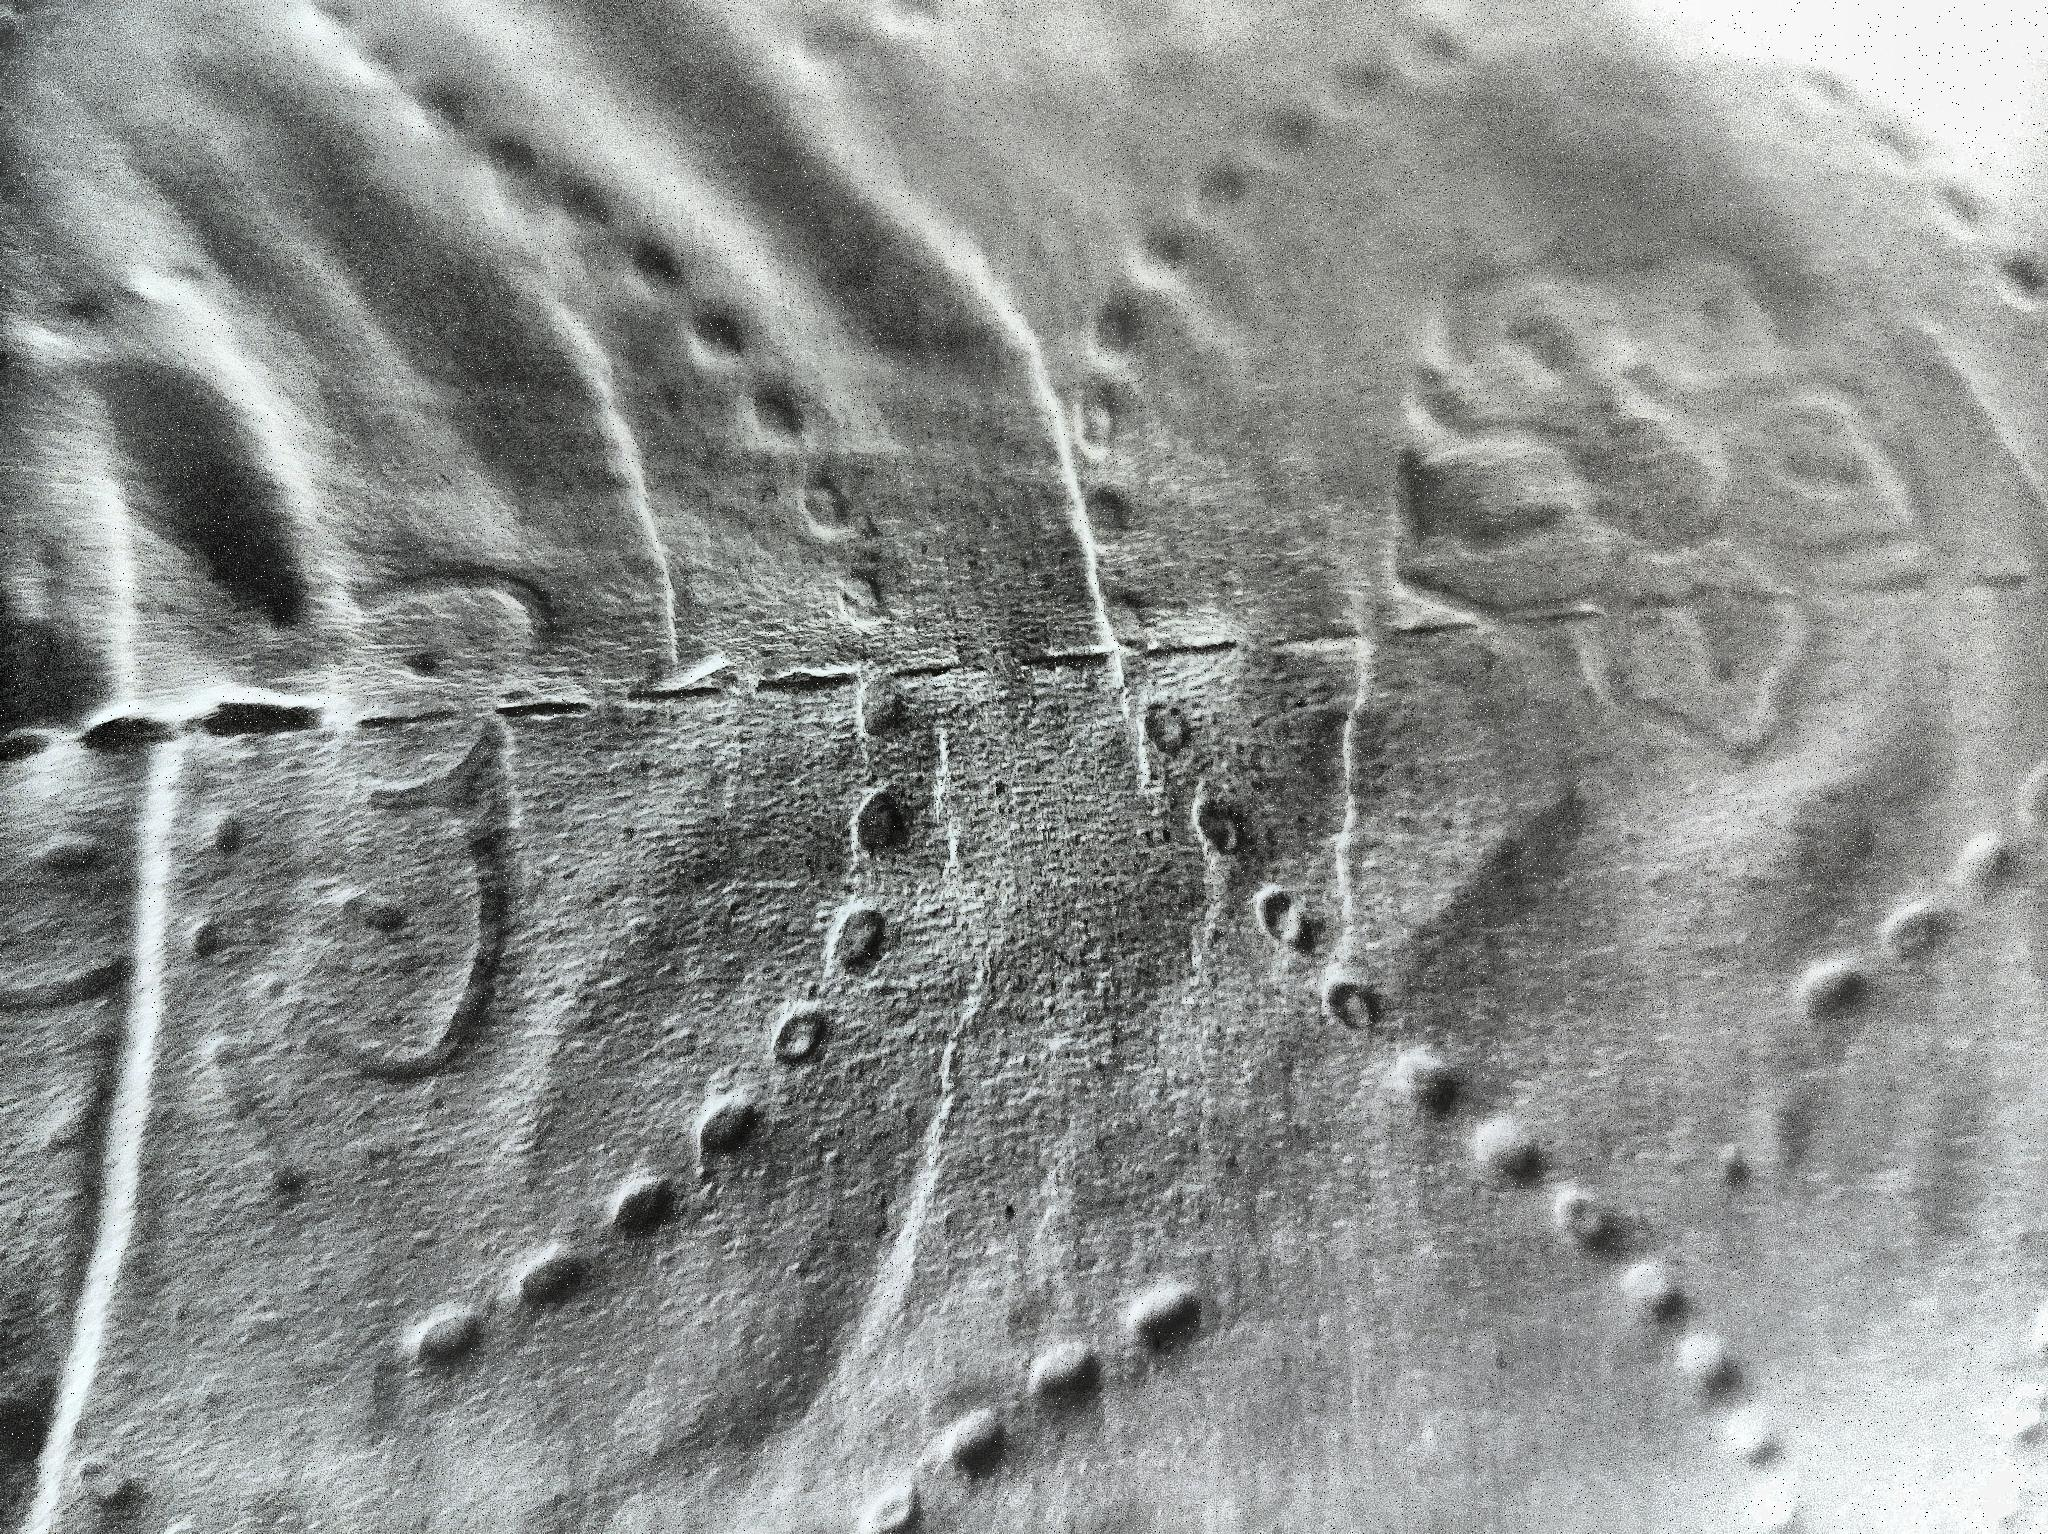seam: (3, 574, 2048, 772)
